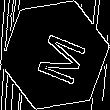M_W: (25, 24, 85, 86)
